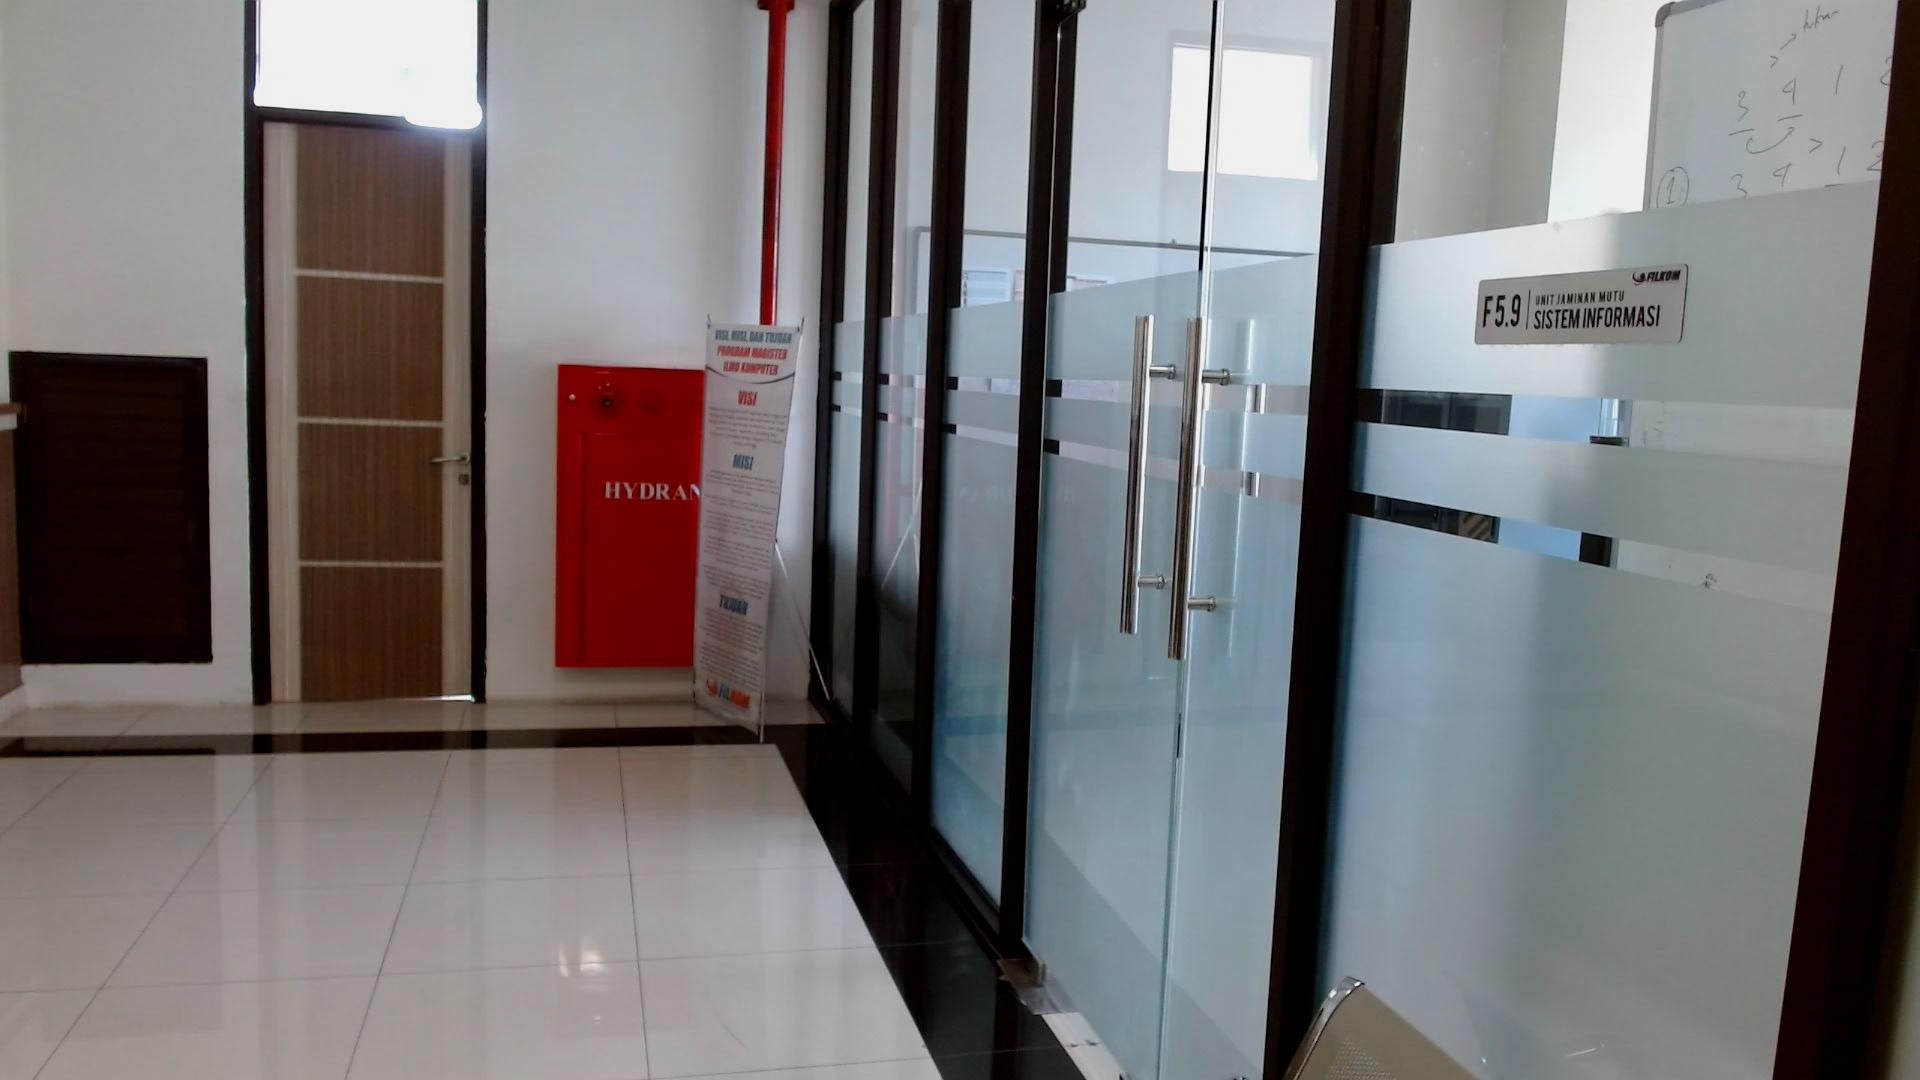plate: (1476, 264, 1688, 344)
